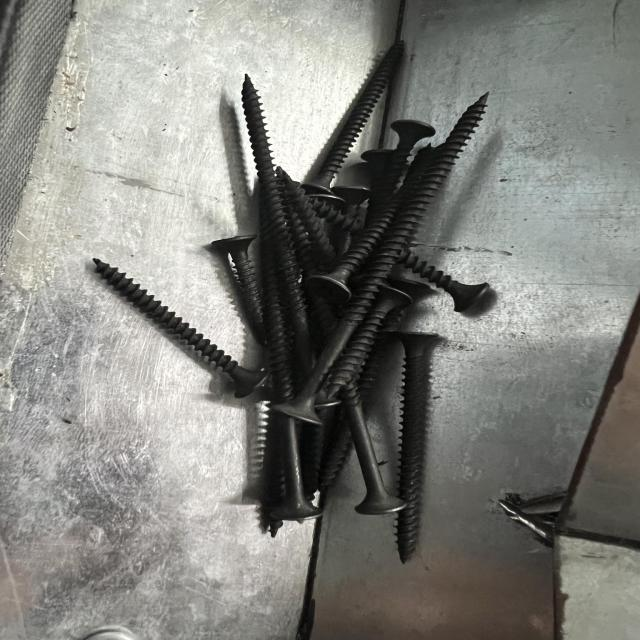screw: (90, 256, 272, 404), (239, 72, 318, 355), (389, 328, 443, 572)
